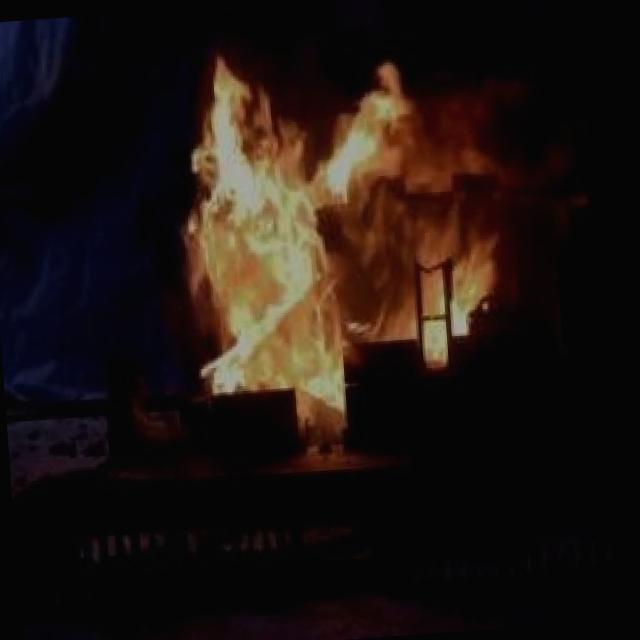fire: (148, 24, 558, 468)
